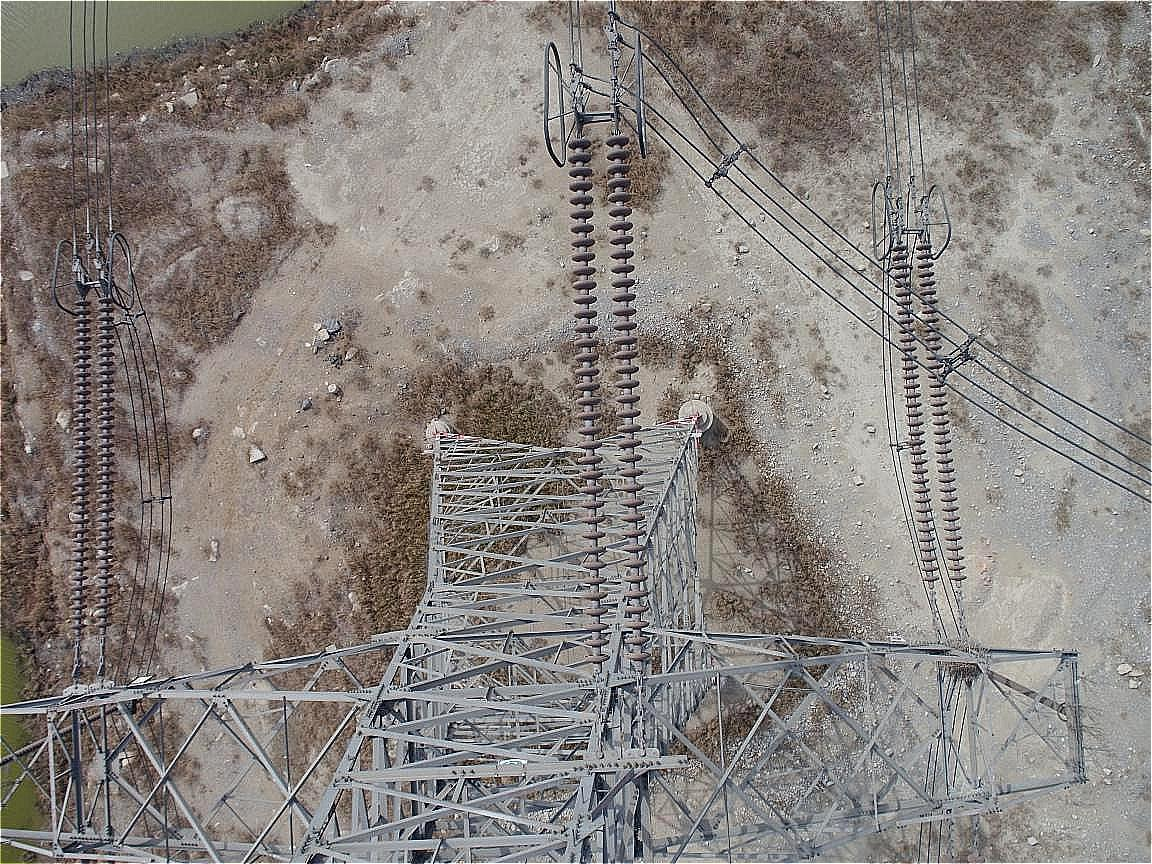insultor1: (535, 118, 670, 688), (885, 241, 992, 582), (61, 284, 123, 659)
